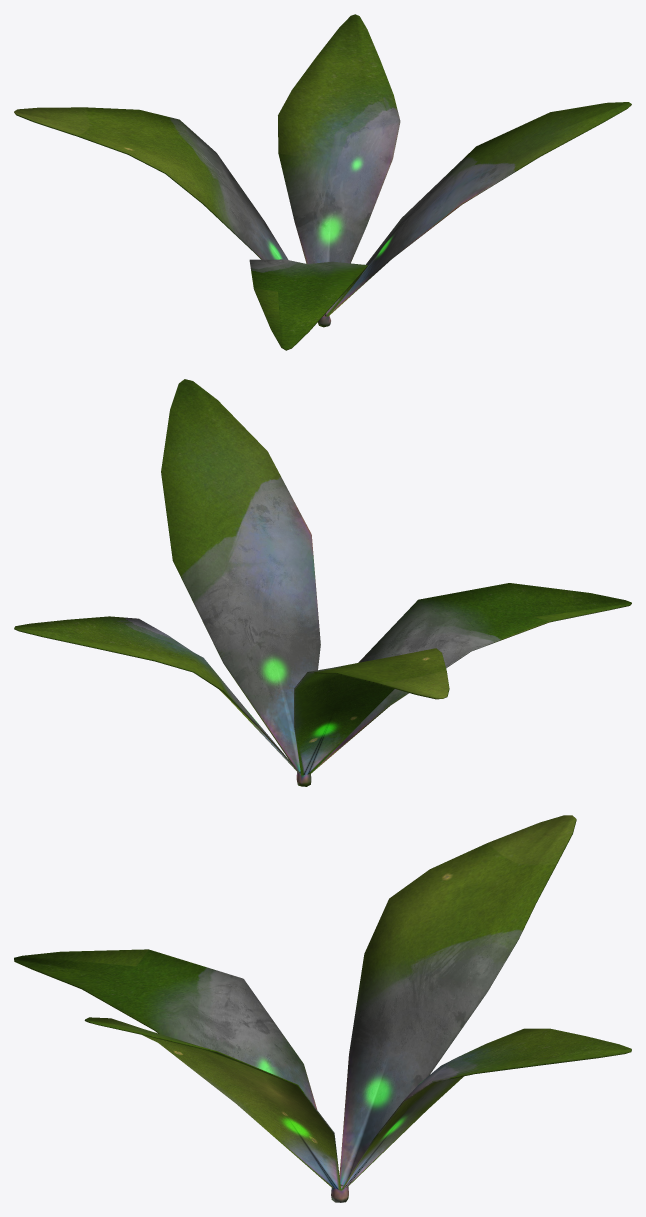
File: Leaf.fbx
3 views of the same model, one above another, from view 1: azimuth 30°, elevation 25°; view 2: azimuth 150°, elevation 25°; view 3: azimuth 270°, elevation 25° (orthographic). The views are drawn at different scales.
Visible parts, largest first — view 1: Cube.003; view 2: Cube.003; view 3: Cube.003.
Boxes of the visible parts, x1,y1,x2,y2 form: Cube.003: [14, 14, 631, 350]; Cube.003: [14, 379, 631, 786]; Cube.003: [14, 815, 631, 1202].
Size of the model in its own units: 737 by 403 by 731.
1 material, 1 textured.
